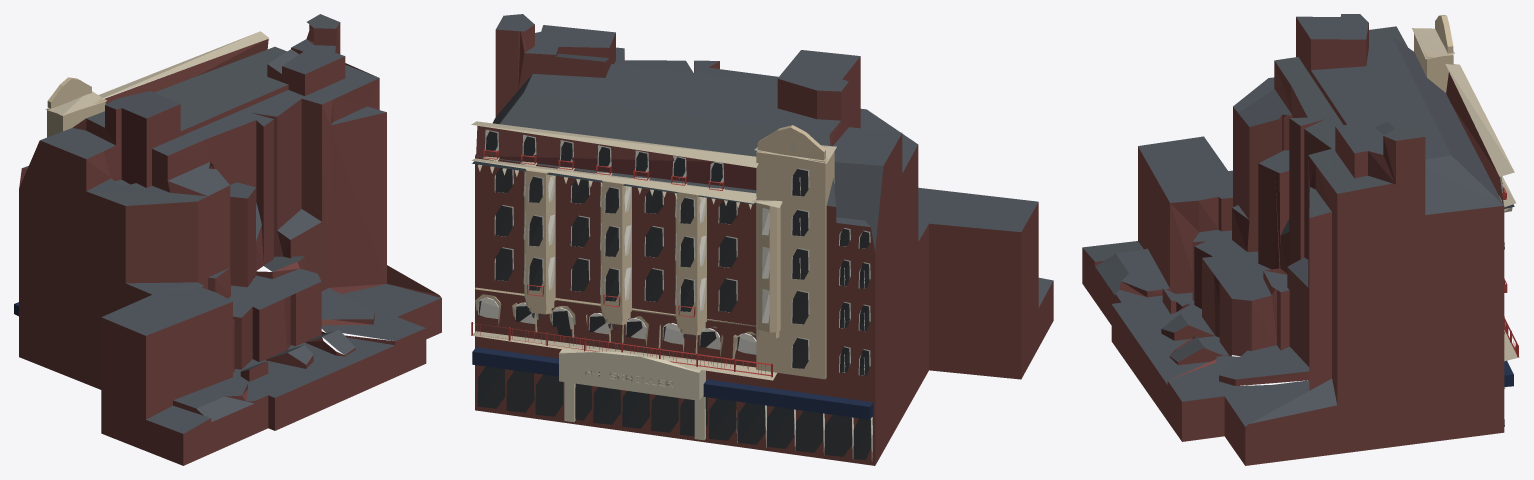
File: schiller-rembrandtplein.lod1.glb
3 renders of one model, left to right at view 1: azimuth 30°, elevation 25°; view 2: azimuth 150°, elevation 25°; view 3: azimuth 270°, elevation 25°, orthographic. The views are drawn at different scales.
Parts seen in each view (by area): view 1: schiller-rembrandtplein; view 2: schiller-rembrandtplein; view 3: schiller-rembrandtplein.
Part boxes in pixels (x1,y1,x2,y2): schiller-rembrandtplein: (14,14,441,465); schiller-rembrandtplein: (471,14,1053,465); schiller-rembrandtplein: (1082,14,1519,465).
Bounding box in the file's own units: 40.54 × 29.21 × 37.84.
